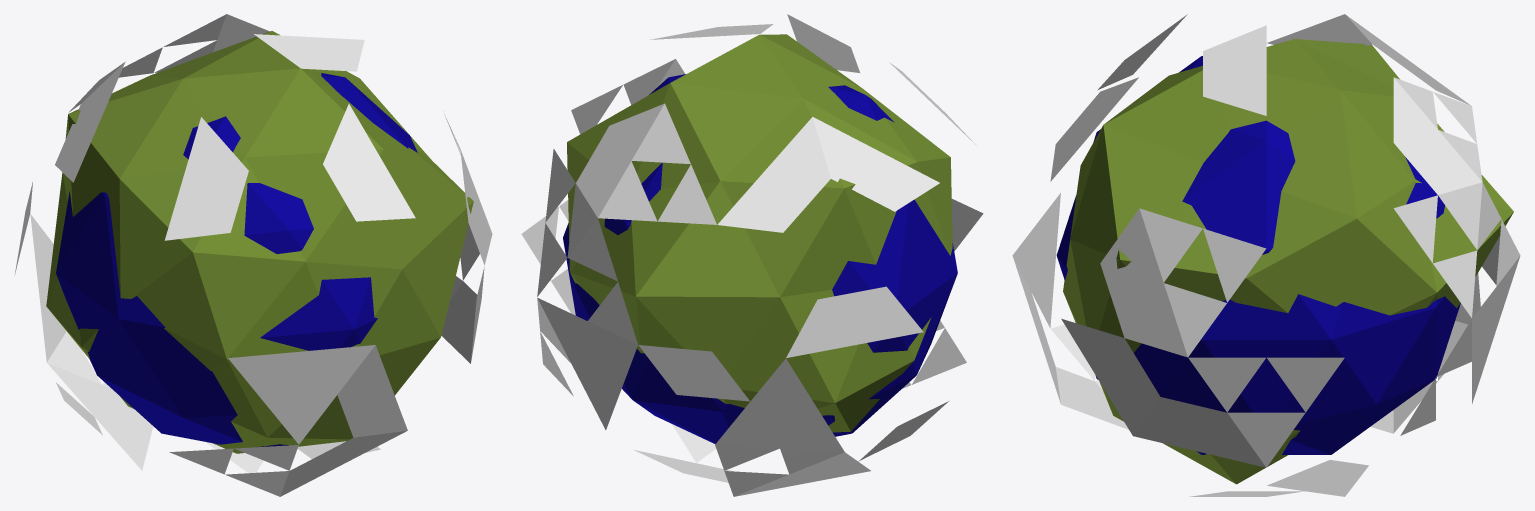
Rendered from planet.fbx.
3 views of the same model, side by side, from view 1: azimuth 30°, elevation 25°; view 2: azimuth 150°, elevation 25°; view 3: azimuth 270°, elevation 25° (orthographic). The views are drawn at different scales.
Parts seen in each view (by area): view 1: Icosphere.001, Icosphere.002, Icosphere; view 2: Icosphere.001, Icosphere.002, Icosphere; view 3: Icosphere.002, Icosphere.001, Icosphere.
Boxes of the visible parts, x1,y1,x2,y2 form: Icosphere.001: (46,31,473,453); Icosphere.002: (14,14,492,496); Icosphere: (56,73,417,447); Icosphere.001: (567,34,952,432); Icosphere.002: (521,14,983,496); Icosphere: (563,74,957,444); Icosphere.002: (1012,14,1520,496); Icosphere.001: (1063,39,1513,484); Icosphere: (1056,56,1460,454).
Size of the model in its own units: 7.23 by 7.61 by 7.61.
